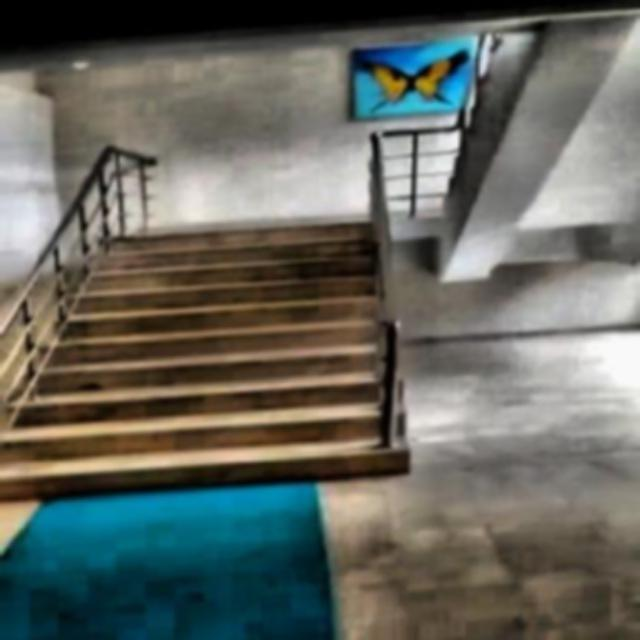stair: (2, 203, 410, 491)
